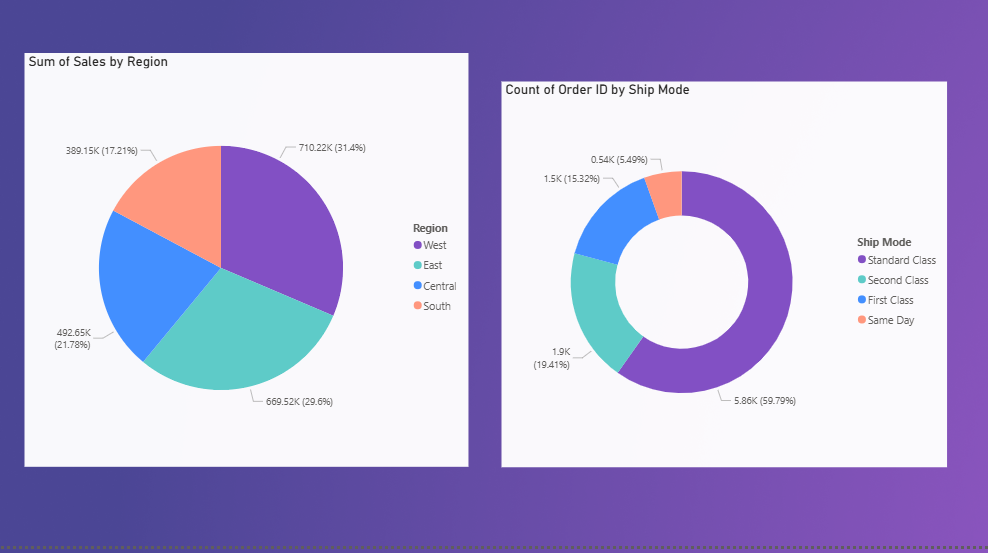

The dashboard page shown, as its layout file describes it:
{"tool":"powerbi","page":{"name":"Page 3","canvas":[1280,720],"ordinal":2},"visuals":[{"type":"pieChart","fields":{"Y":["Sum(sample_superstore.Sales)"],"Category":["sample_superstore.Region"]},"box":[39.7,98.3,559.4,521.6],"z":0},{"type":"donutChart","fields":{"Category":["sample_superstore.Ship Mode"],"Y":["CountNonNull(sample_superstore.Order ID)"]},"box":[640.6,134.2,561.3,485.7],"z":1}]}

Visuals, with their boxes in screenshot pixels (x1, y1, x2, y2), scaled from the page's 1280x720 canvas onto the 988x553 screenshot:
pieChart - Sum(sample_superstore.Sales) x sample_superstore.Region: pyautogui.locateOnScreen(31, 75, 462, 476)
donutChart - sample_superstore.Ship Mode x CountNonNull(sample_superstore.Order ID): pyautogui.locateOnScreen(494, 103, 928, 476)
